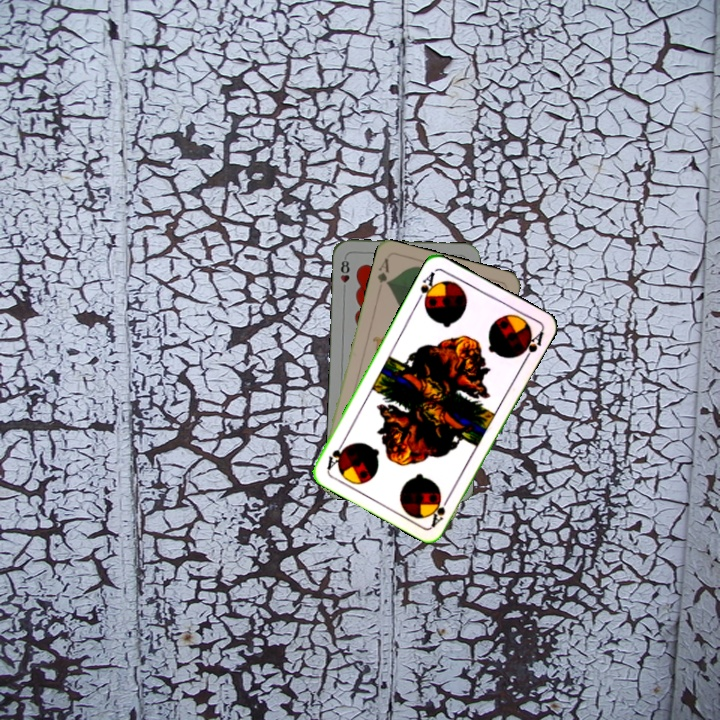GA: (373, 254, 392, 294)
H8: (336, 254, 352, 294)
SA: (413, 267, 440, 308), (427, 491, 453, 529)
